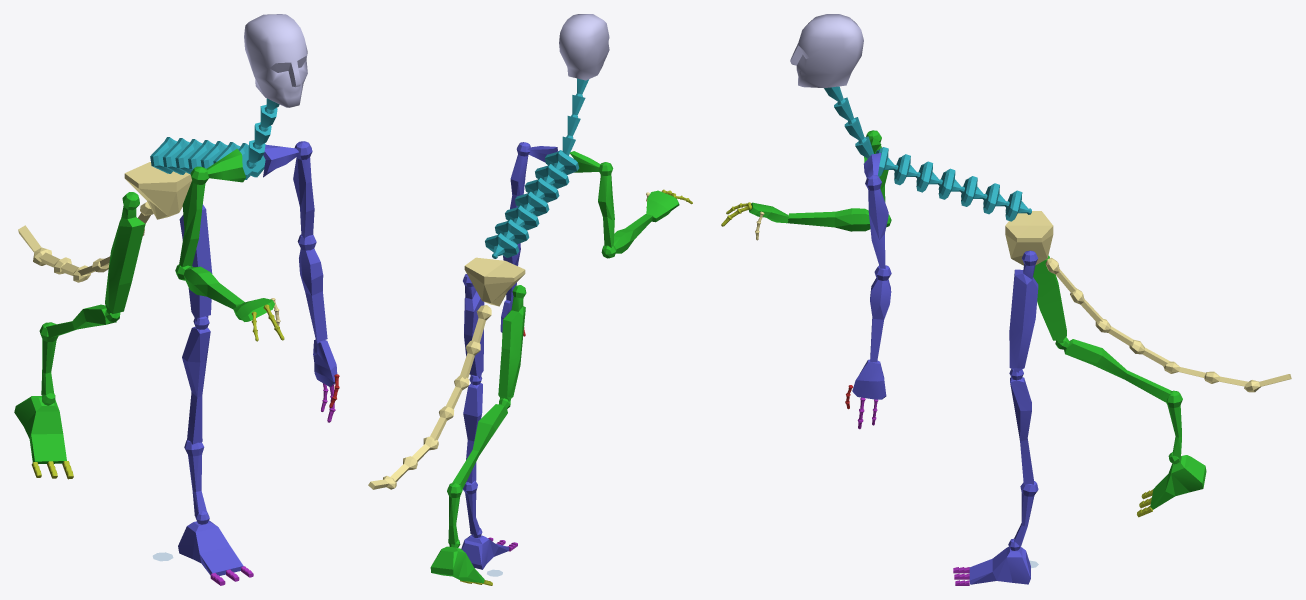
File: dino3D.glb
3 views of the same model, side by side, from view 1: azimuth 30°, elevation 25°; view 2: azimuth 150°, elevation 25°; view 3: azimuth 270°, elevation 25° (orthographic). The views are drawn at different scales.
Parts seen in each view (by area): view 1: Bip003 Head, Bip003 R Thigh, Bip003 R Foot, Bip003 L Foot, Bip003 Pelvis, Bip003 L Calf, Bip003 L Forearm, Bip003 R UpperArm, Bip003 L UpperArm, Bip003 R Forearm, Bip003 L Thigh, Bip003 R Calf (+11 smaller); view 2: Bip003 Head, Bip003 R Thigh, Bip003 Pelvis, Bip003 R Calf, Bip003 R Foot, Bip003 L Thigh, Bip003 L Calf, Bip003 R UpperArm, Bip003 L Foot, Bip003 R Forearm, Bip003 L UpperArm, Bip003 R Hand (+9 smaller); view 3: Bip003 Head, Bip003 L Thigh, Bip003 Pelvis, Bip003 L Foot, Bip003 R Calf, Bip003 R Foot, Bip003 R Thigh, Bip003 L Calf, Bip003 R Forearm, Bip003 L Forearm, Bip003 L UpperArm, Bip003 L Hand.
Part boxes in pixels (x1,y1,x2,y2): Bip003 Head: [244, 14, 307, 107]; Bip003 R Thigh: [105, 192, 145, 313]; Bip003 R Foot: [14, 393, 66, 463]; Bip003 L Foot: [178, 511, 243, 575]; Bip003 Pelvis: [124, 162, 191, 219]; Bip003 L Calf: [182, 316, 210, 444]; Bip003 L Forearm: [297, 234, 327, 343]; Bip003 R UpperArm: [179, 166, 208, 267]; Bip003 L UpperArm: [293, 141, 314, 238]; Bip003 R Forearm: [175, 264, 244, 308]; Bip003 L Thigh: [179, 204, 212, 321]; Bip003 R Calf: [46, 304, 120, 337]; Bip003 Head: [559, 14, 609, 80]; Bip003 R Thigh: [498, 285, 526, 401]; Bip003 Pelvis: [464, 257, 525, 306]; Bip003 R Calf: [452, 398, 510, 488]; Bip003 R Foot: [430, 539, 484, 583]; Bip003 L Thigh: [463, 274, 484, 378]; Bip003 L Calf: [463, 375, 482, 483]; Bip003 R UpperArm: [598, 162, 614, 247]; Bip003 L Foot: [461, 528, 509, 569]; Bip003 R Forearm: [601, 214, 653, 258]; Bip003 L UpperArm: [510, 142, 530, 209]; Bip003 R Hand: [646, 190, 679, 222]; Bip003 Head: [790, 14, 863, 87]; Bip003 L Thigh: [1009, 250, 1038, 372]; Bip003 Pelvis: [1005, 211, 1053, 265]; Bip003 L Foot: [969, 538, 1030, 584]; Bip003 R Calf: [1055, 337, 1171, 402]; Bip003 R Foot: [1150, 452, 1206, 509]; Bip003 R Thigh: [1033, 255, 1066, 343]; Bip003 L Calf: [1009, 369, 1033, 484]; Bip003 R Forearm: [788, 208, 891, 231]; Bip003 L Forearm: [870, 265, 891, 362]; Bip003 L UpperArm: [865, 175, 888, 268]; Bip003 L Hand: [852, 359, 886, 399].
Size of the model in its own units: 0.6045 by 2.29 by 2.17.
